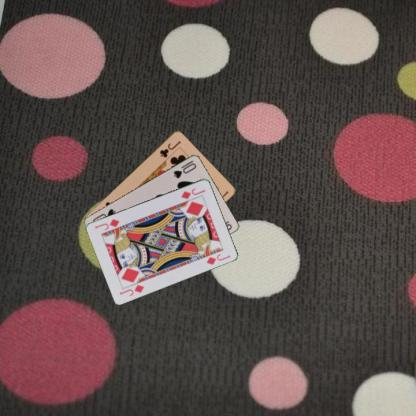10s: (171, 157, 198, 180)
Jc: (157, 138, 182, 159)
Jd: (117, 281, 146, 297), (178, 185, 207, 200)
